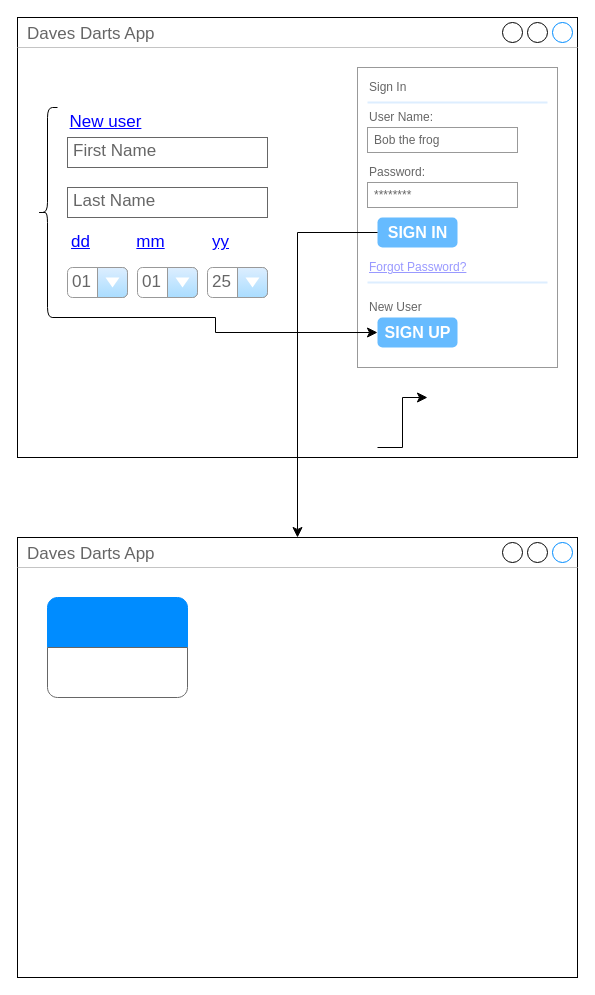
This 595x995 diagram has some shape labels left out. Here are the shapes that lost their labels. From the top down, the centre of each, then its label:
the point at 117,622: Tournaments
the point at 117,672: Scores
